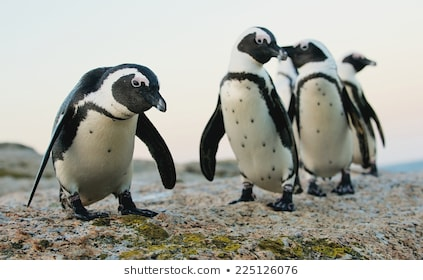penguin: (7, 43, 179, 225), (183, 18, 302, 219), (284, 31, 360, 198), (329, 48, 395, 182)
